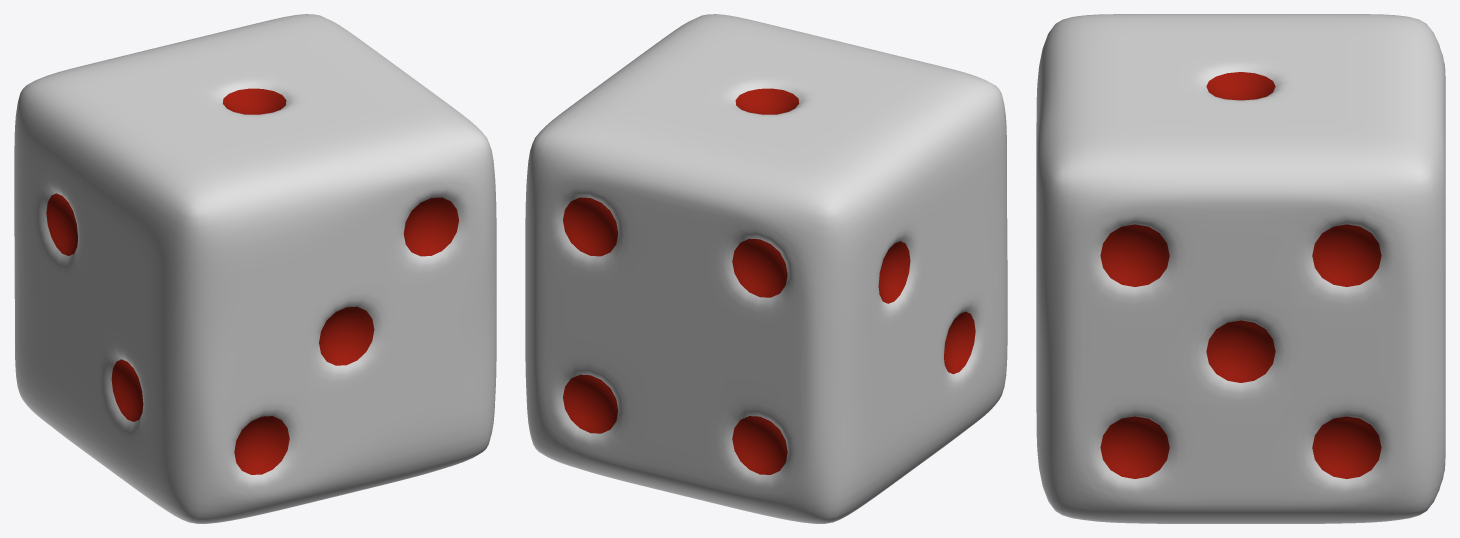
File: DiceRed.fbx
3 renders of one model, left to right at view 1: azimuth 30°, elevation 25°; view 2: azimuth 150°, elevation 25°; view 3: azimuth 270°, elevation 25°, orthographic. The views are drawn at different scales.
Parts seen in each view (by area): view 1: Die (Blue); view 2: Die (Blue); view 3: Die (Blue).
Boxes of the visible parts, x1=… form: Die (Blue): x1=14, y1=14, x2=496, y2=523; Die (Blue): x1=525, y1=14, x2=1007, y2=523; Die (Blue): x1=1036, y1=14, x2=1445, y2=523.
Bounding box in the file's own units: 200 × 200 × 200.
